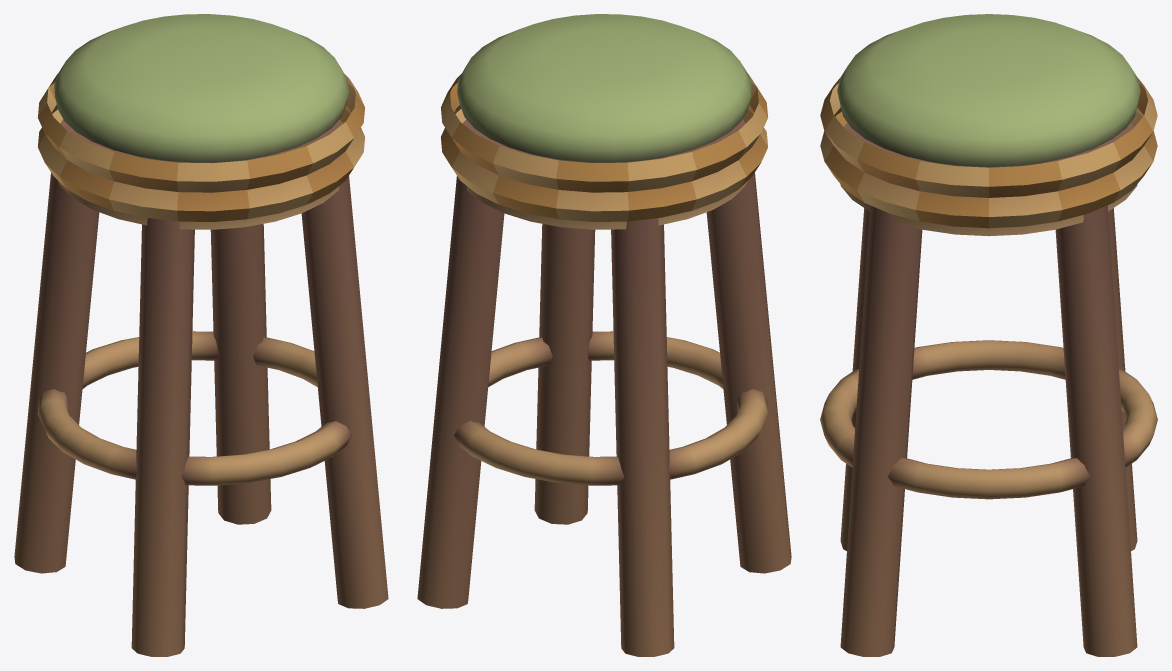
The model's file is stool_garden.glb.
3 views of the same model, side by side, from view 1: azimuth 30°, elevation 25°; view 2: azimuth 150°, elevation 25°; view 3: azimuth 270°, elevation 25° (orthographic). The views are drawn at different scales.
Parts seen in each view (by area): view 1: stool_garden; view 2: stool_garden; view 3: stool_garden.
Boxes of the visible parts, x1,y1,x2,y2 form: stool_garden: [14, 14, 388, 656]; stool_garden: [417, 14, 791, 656]; stool_garden: [820, 14, 1157, 656].
Bounding box in the file's own units: 0.5561 × 0.9852 × 0.5561.
